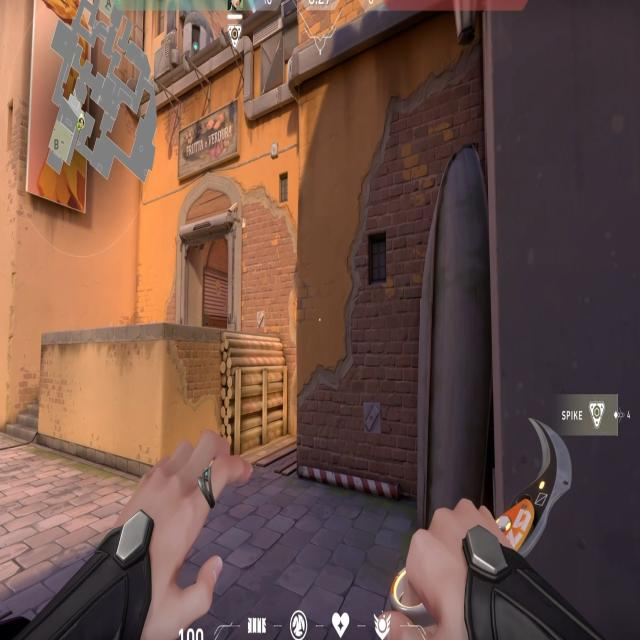B_Cubby: (166, 322, 294, 471)
